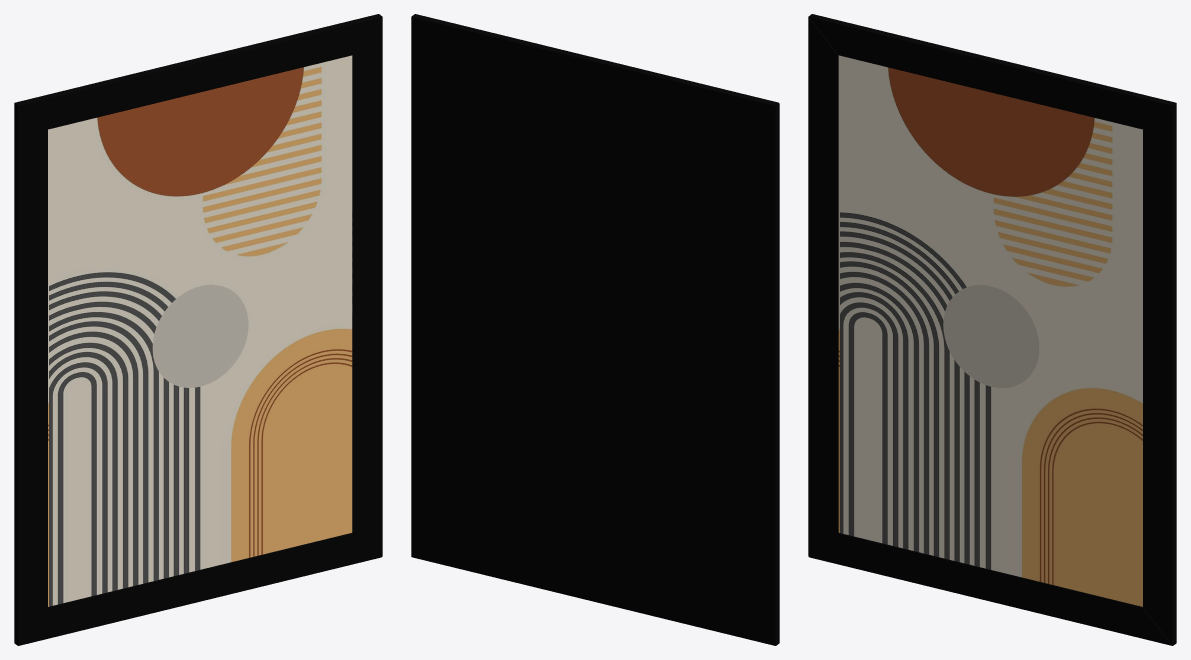
Rendered from Geometric_Harmony_Boho_Art.glb.
3 renders of one model, left to right at view 1: azimuth 30°, elevation 25°; view 2: azimuth 150°, elevation 25°; view 3: azimuth 330°, elevation 25°, orthographic.
Parts seen in each view (by area): view 1: unnamed (×2); view 2: unnamed; view 3: unnamed (×2).
Boxes of the visible parts, box(x1,y1,x2,y2) form: unnamed (×2): box(14, 14, 382, 645); unnamed: box(411, 14, 779, 645); unnamed (×2): box(808, 14, 1176, 645).
Bounding box in the file's own units: 0.048 × 0.068 × 0.000907.
3 materials, 1 textured.
